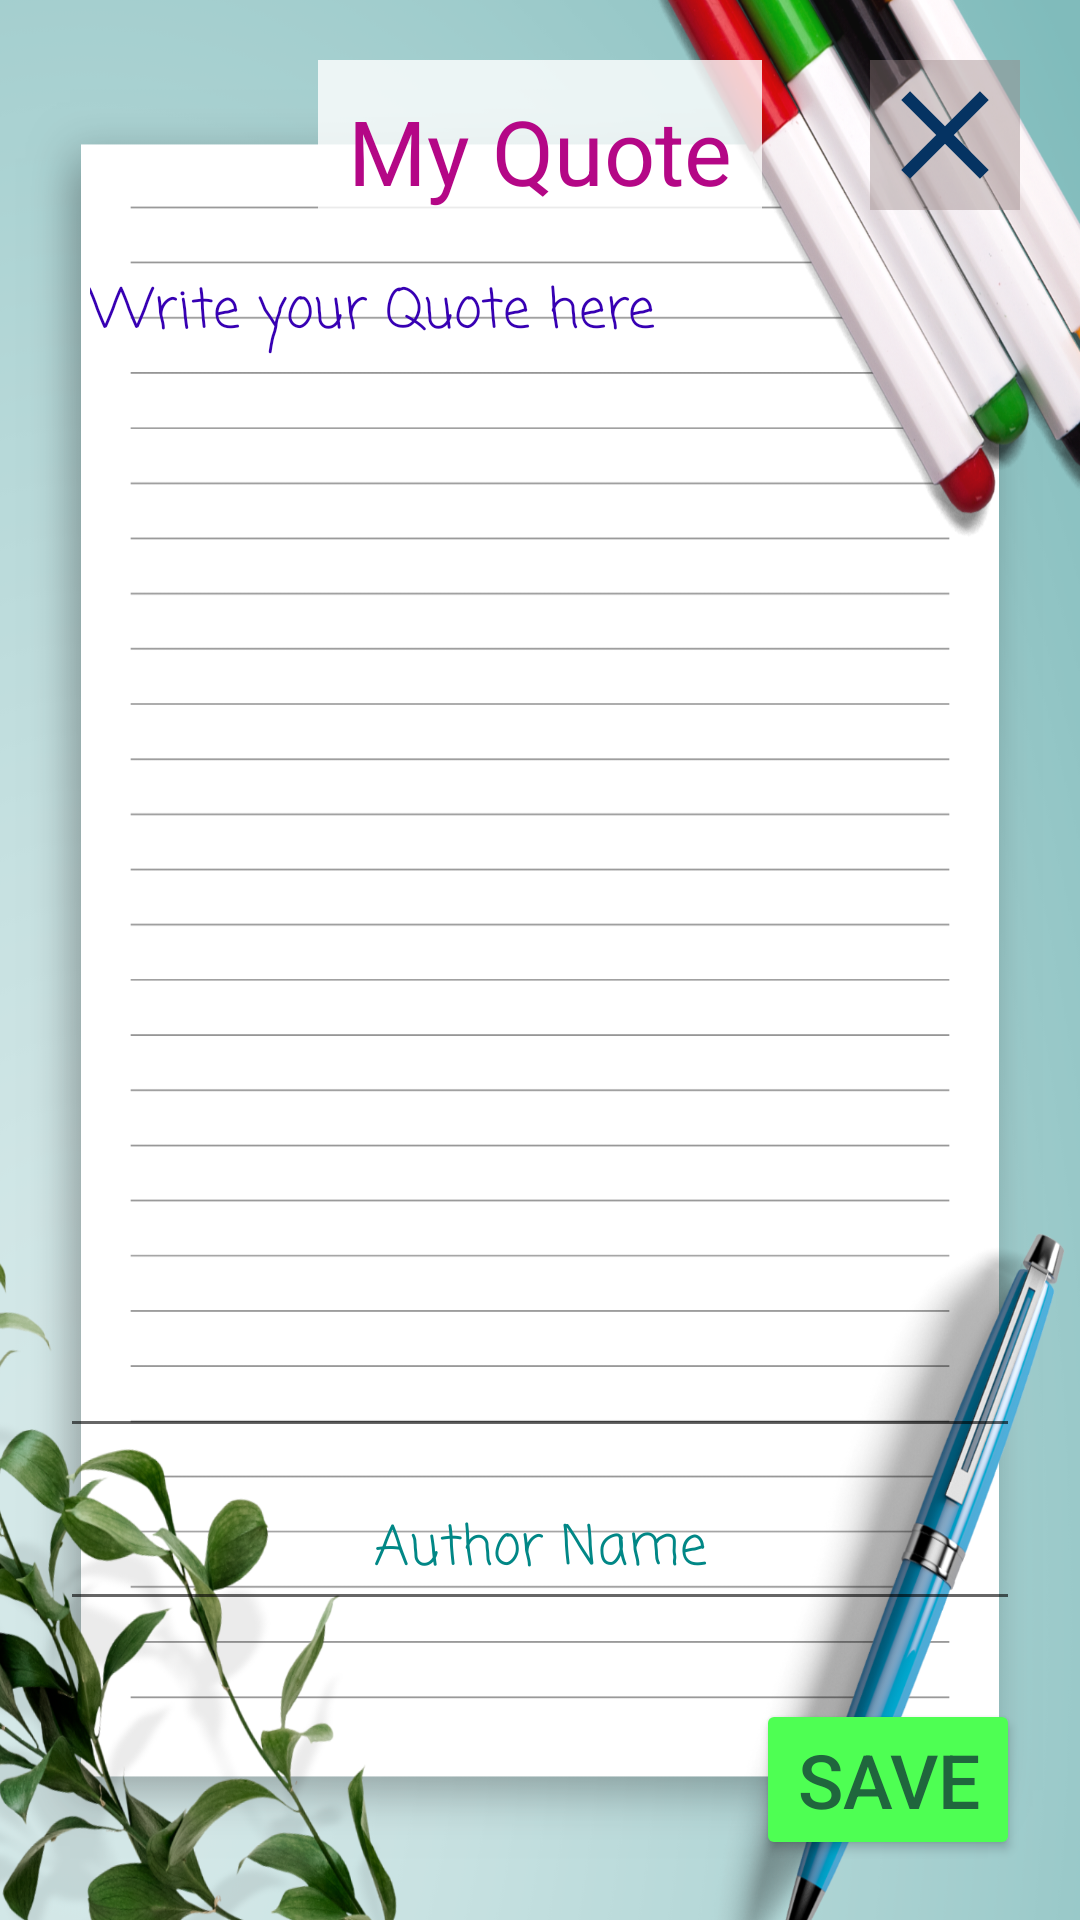

Where to tap for icons on this 1080 × 1920 app screen, as (x=x, y=y):
clear: (x=945, y=135)
